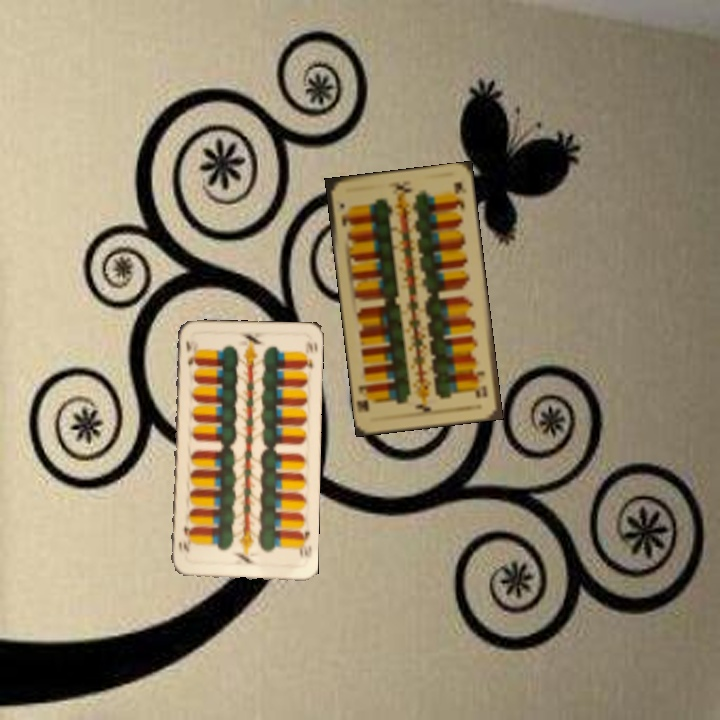E10: (294, 526, 314, 561), (473, 367, 490, 400), (335, 199, 353, 229), (182, 337, 198, 369)
